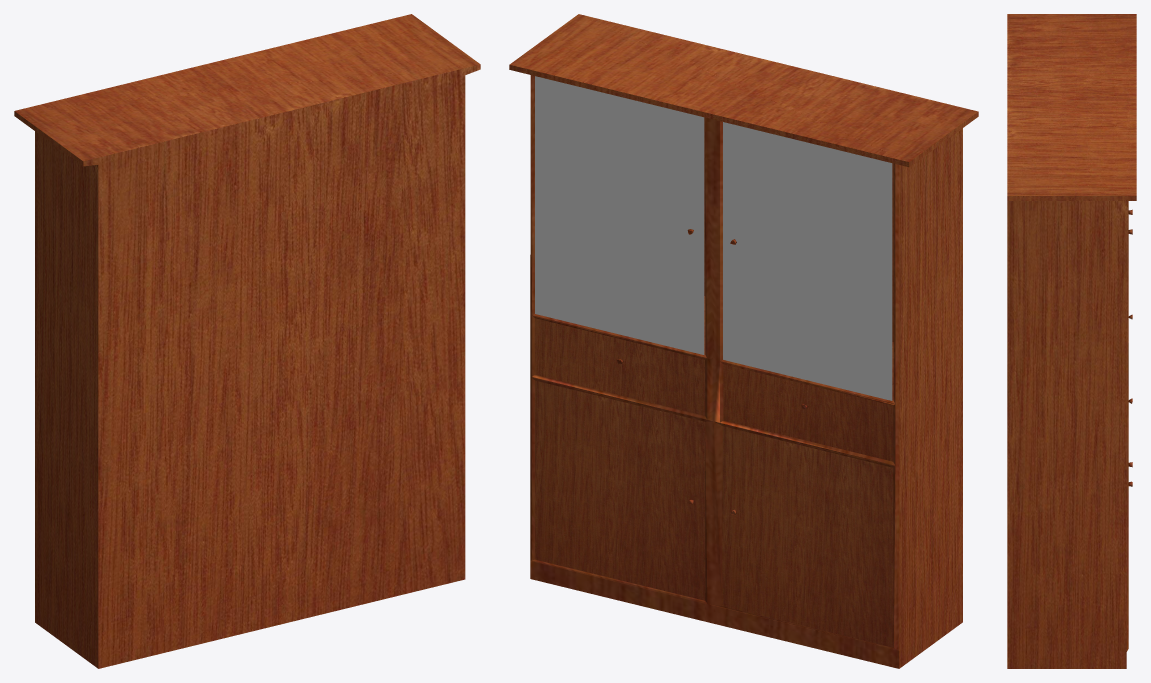
The model's file is closet.dae.
3 renders of one model, left to right at view 1: azimuth 30°, elevation 25°; view 2: azimuth 150°, elevation 25°; view 3: azimuth 270°, elevation 25°, orthographic. The views are drawn at different scales.
Visible parts, largest first — view 1: Mesh; view 2: Mesh; view 3: Mesh.
Boxes of the visible parts, x1,y1,x2,y2 form: Mesh: [14, 14, 480, 668]; Mesh: [509, 14, 978, 668]; Mesh: [1007, 14, 1136, 668].
Size of the model in its own units: 1.62 by 0.4875 by 2.
Materials: 5 (4 with a texture image).
